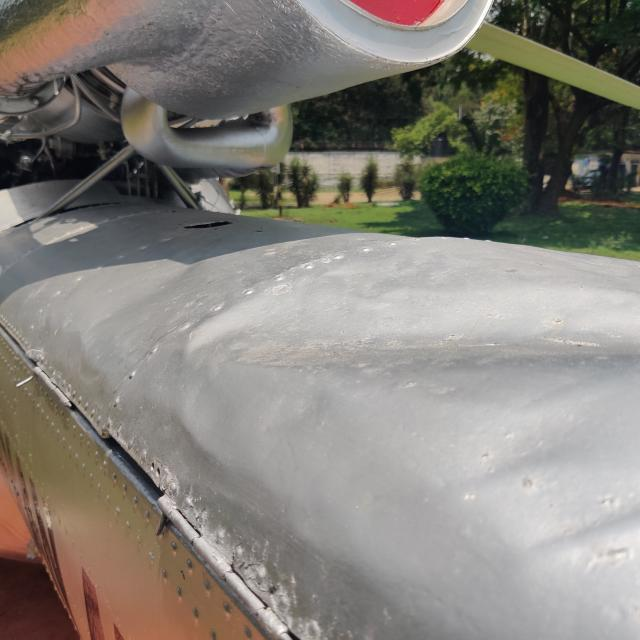dent: (168, 232, 640, 409), (435, 412, 578, 531), (499, 486, 640, 591)
